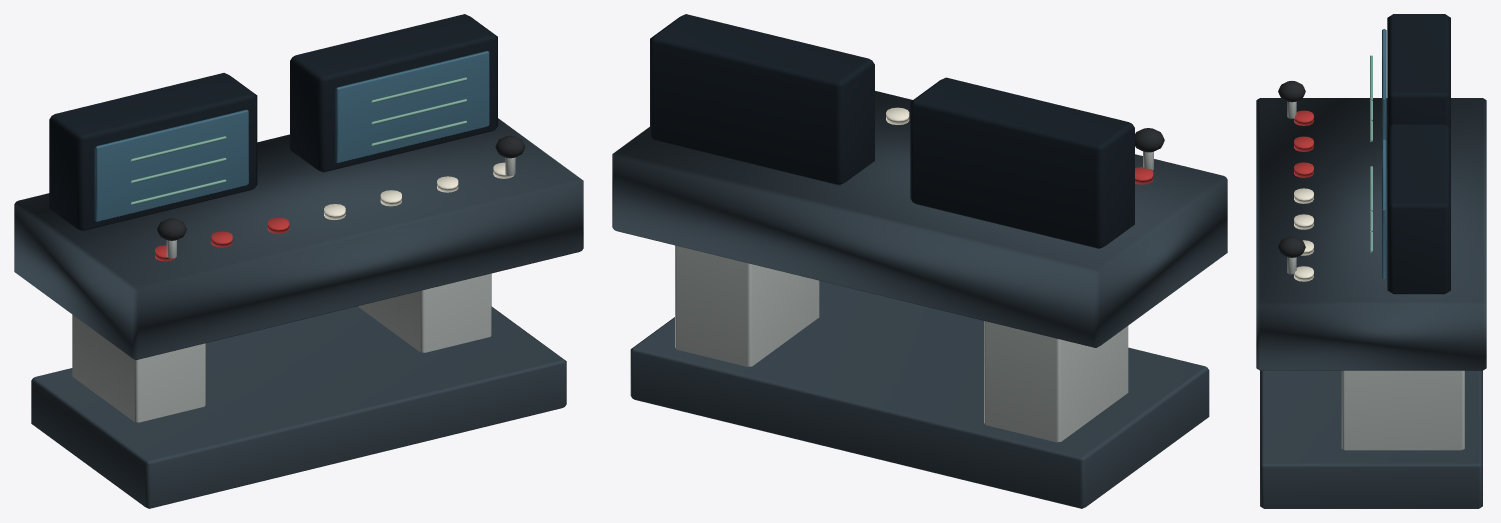
File: S082_starship_console_rebuilt.glb
3 views of the same model, side by side, from view 1: azimuth 30°, elevation 25°; view 2: azimuth 150°, elevation 25°; view 3: azimuth 270°, elevation 25° (orthographic). The views are drawn at different scales.
Visible parts, largest first — view 1: shell, dark, blue, silver, green, white, rubber, red; view 2: shell, dark, silver; view 3: shell, dark, silver, blue, white, rubber, red, green.
Part boxes in pixels (left/top/right/bottom): shell: left=14, top=118, right=583, bottom=508; dark: left=49, top=14, right=497, bottom=231; blue: left=94, top=51, right=489, bottom=221; silver: left=72, top=157, right=515, bottom=422; green: left=131, top=77, right=466, bottom=205; white: left=324, top=162, right=513, bottom=220; rubber: left=157, top=135, right=525, bottom=240; red: left=155, top=217, right=289, bottom=261; shell: left=612, top=91, right=1227, bottom=508; dark: left=650, top=14, right=1134, bottom=248; silver: left=675, top=151, right=1153, bottom=442; shell: left=1256, top=98, right=1486, bottom=508; dark: left=1387, top=14, right=1450, bottom=294; silver: left=1287, top=101, right=1464, bottom=450; blue: left=1382, top=29, right=1386, bottom=279; white: left=1294, top=188, right=1313, bottom=281; rubber: left=1278, top=81, right=1305, bottom=257; red: left=1294, top=110, right=1313, bottom=177; green: left=1370, top=55, right=1372, bottom=252.
Size of the model in its own units: 2 by 1.37 by 0.9392.
